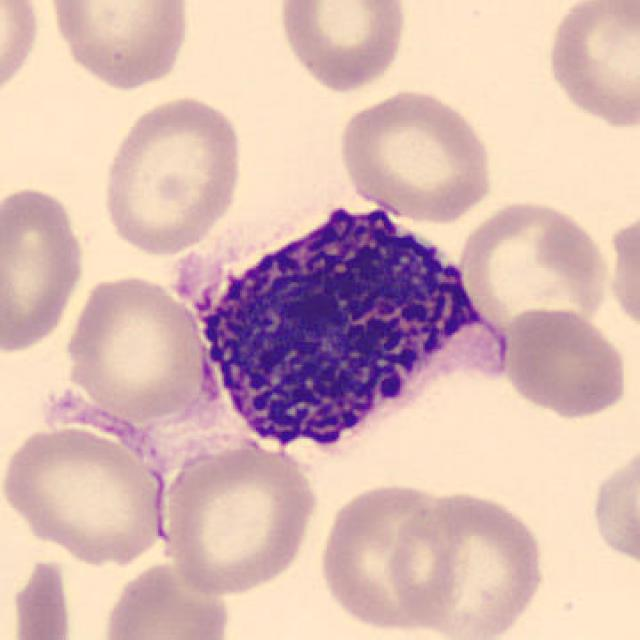Basophil: (180, 188, 508, 472)
RBC: (154, 437, 322, 598), (0, 421, 174, 568), (387, 486, 549, 640), (96, 92, 247, 257), (315, 478, 469, 635), (60, 270, 214, 425), (332, 85, 498, 224), (454, 196, 612, 328), (0, 182, 89, 356), (500, 303, 631, 420), (42, 0, 193, 93), (272, 0, 410, 93), (542, 0, 638, 132), (96, 557, 236, 640), (587, 437, 638, 575), (6, 555, 78, 640), (604, 208, 640, 340), (0, 0, 42, 109)
